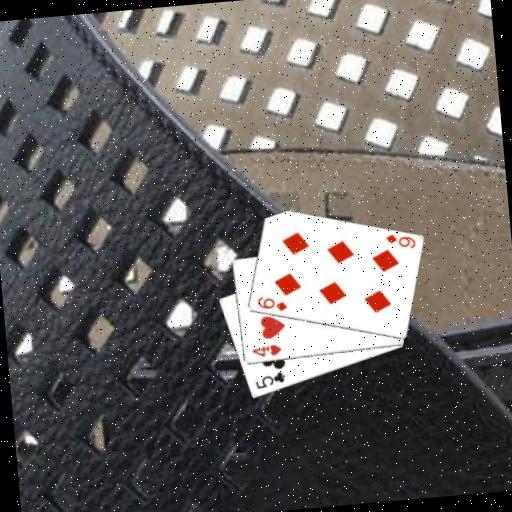4H: (248, 341, 283, 359)
5C: (251, 369, 287, 392)
6D: (254, 292, 289, 315), (382, 230, 417, 253)
